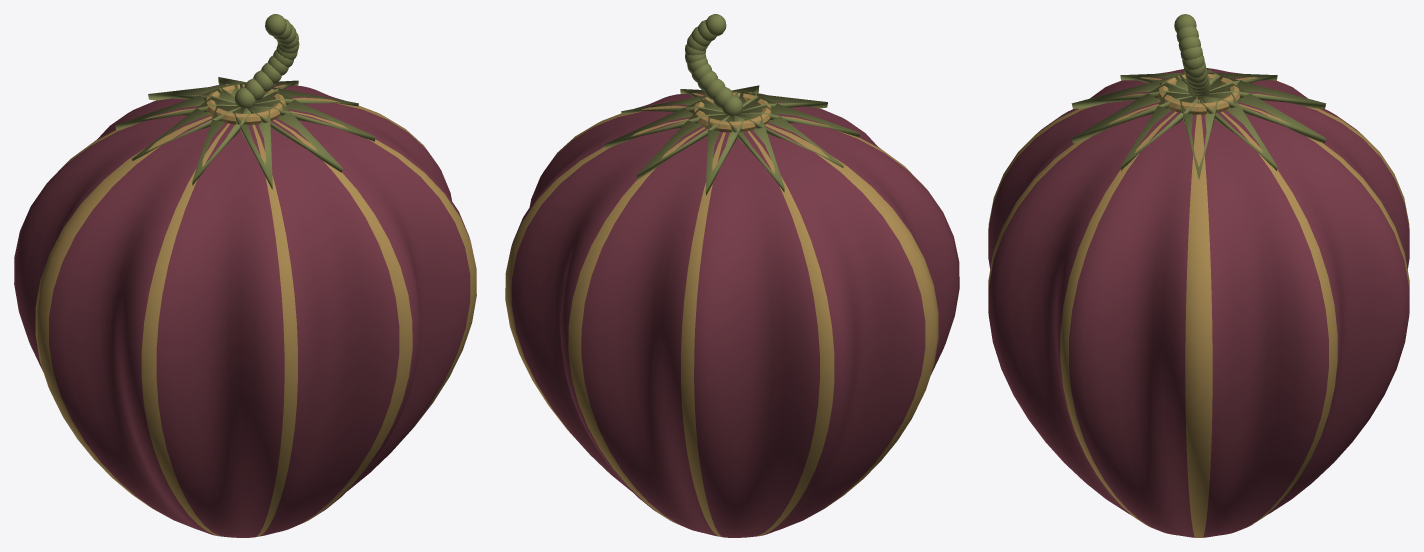
Rendered from jackpot.glb.
3 renders of one model, left to right at view 1: azimuth 30°, elevation 25°; view 2: azimuth 150°, elevation 25°; view 3: azimuth 270°, elevation 25°, orthographic. The views are drawn at different scales.
Visible parts, largest first — view 1: Jackpot Jackpot garnet heart skin / Fine antique-gold rib se, Jackpot Bronzed ten-leaf calyx, Jackpot Fine antique-gold rib seams; view 2: Jackpot Jackpot garnet heart skin / Fine antique-gold rib se, Jackpot Bronzed ten-leaf calyx, Jackpot Fine antique-gold rib seams; view 3: Jackpot Jackpot garnet heart skin / Fine antique-gold rib se, Jackpot Bronzed ten-leaf calyx, Jackpot Fine antique-gold rib seams.
Part boxes in pixels (bbox=[...]): Jackpot Jackpot garnet heart skin / Fine antique-gold rib se: bbox=[14, 84, 476, 537]; Jackpot Bronzed ten-leaf calyx: bbox=[115, 14, 375, 189]; Jackpot Fine antique-gold rib seams: bbox=[205, 84, 286, 124]; Jackpot Jackpot garnet heart skin / Fine antique-gold rib se: bbox=[505, 92, 959, 537]; Jackpot Bronzed ten-leaf calyx: bbox=[604, 14, 860, 195]; Jackpot Fine antique-gold rib seams: bbox=[692, 92, 771, 132]; Jackpot Jackpot garnet heart skin / Fine antique-gold rib se: bbox=[988, 68, 1409, 537]; Jackpot Bronzed ten-leaf calyx: bbox=[1071, 14, 1326, 178]; Jackpot Fine antique-gold rib seams: bbox=[1157, 73, 1240, 114].
Size of the model in its own units: 1.44 by 1.7 by 1.24.
